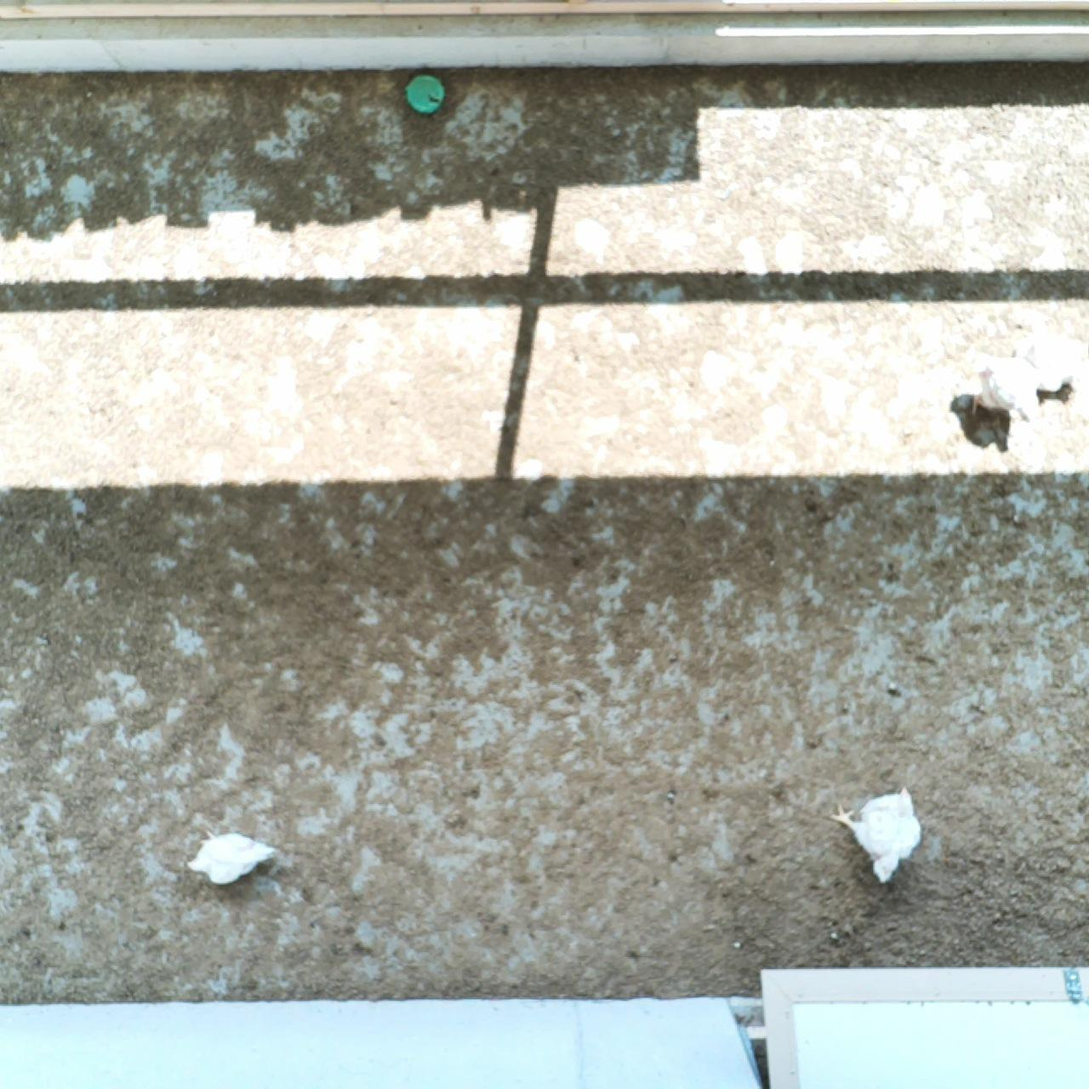chicken: (828, 784, 923, 885), (1011, 305, 1084, 394), (967, 346, 1041, 429), (188, 825, 282, 885)
